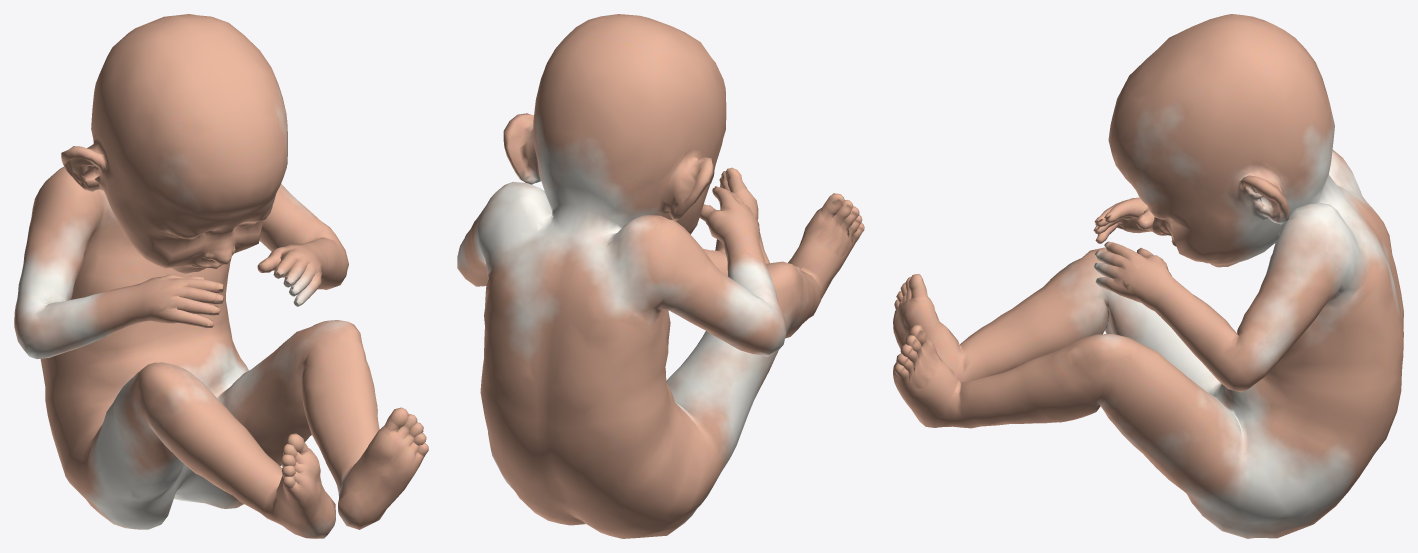
The picture shows the model from 3 angles, left to right: view 1: azimuth 30°, elevation 25°; view 2: azimuth 150°, elevation 25°; view 3: azimuth 270°, elevation 25°; orthographic projection.
Parts seen in each view (by area): view 1: Baby; view 2: Baby; view 3: Baby.
Part boxes in pixels (<box>): Baby: <box>14,14,428,538</box>; Baby: <box>457,14,864,538</box>; Baby: <box>893,14,1403,538</box>.
Size of the model in its own units: 0.2624 by 0.3859 by 0.3624.
Materials: 1 (1 with a texture image).
